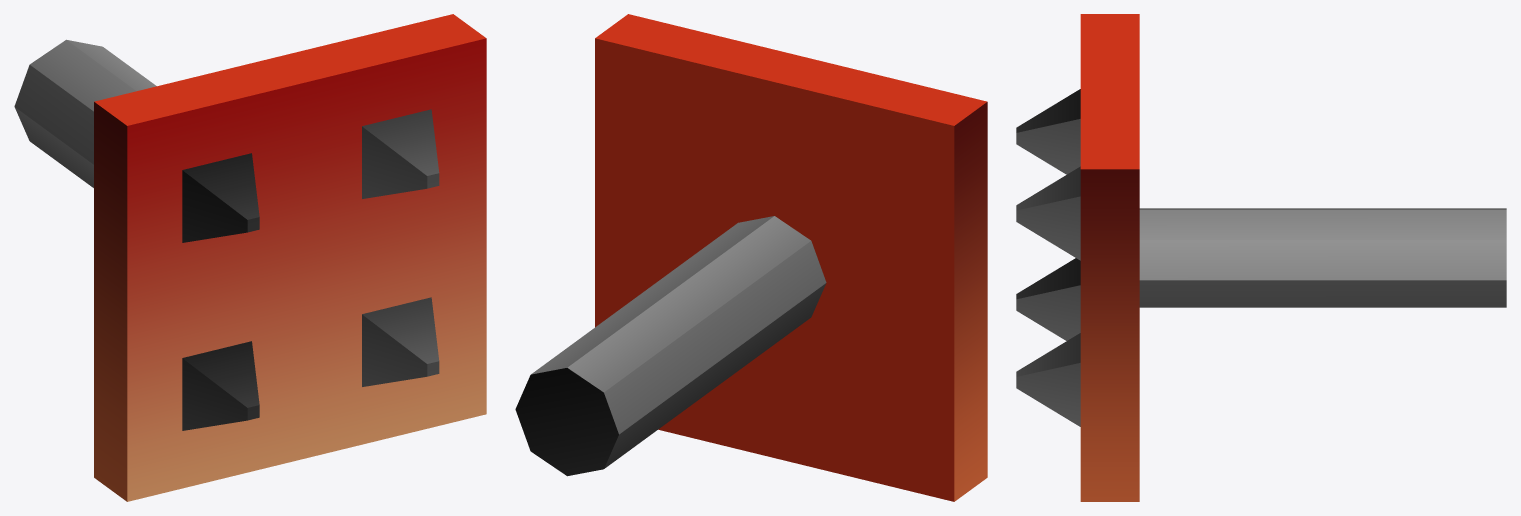
Rendered from crushing_wall.glb.
3 views of the same model, side by side, from view 1: azimuth 30°, elevation 25°; view 2: azimuth 150°, elevation 25°; view 3: azimuth 270°, elevation 25° (orthographic). The views are drawn at different scales.
Visible parts, largest first — view 1: Cube, Cube.001; view 2: Cube, Cube.001; view 3: Cube, Cube.001.
Part boxes in pixels (box(x1,y1,x2,y2)): Cube: box(94, 14, 486, 501); Cube.001: box(14, 39, 156, 187); Cube: box(595, 14, 987, 501); Cube.001: box(515, 216, 826, 476); Cube: box(1016, 14, 1139, 501); Cube.001: box(1139, 208, 1506, 307).
Bounding box in the file's own units: 2 × 2 × 2.67.
1 material, 1 textured.
